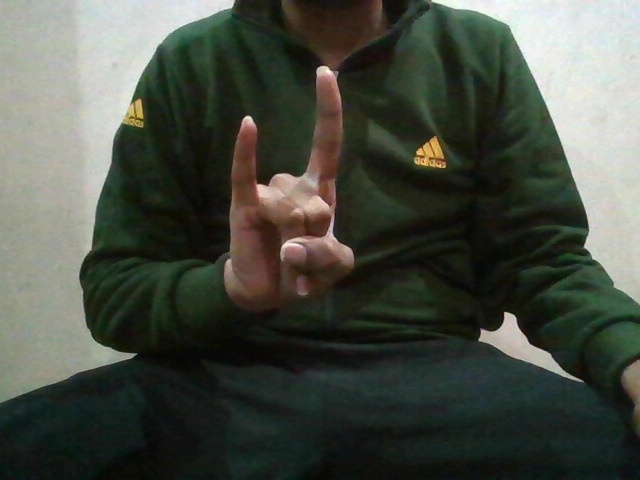U: (223, 70, 382, 300)
